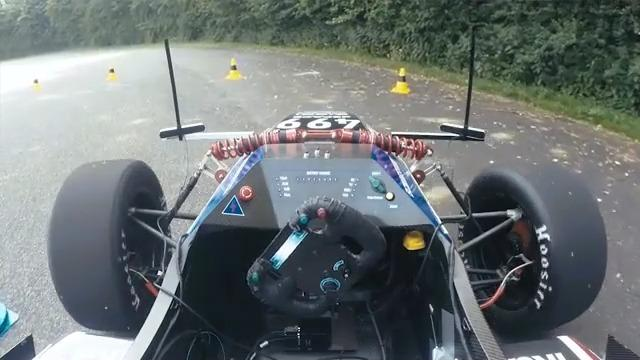blue_cone: (0, 262, 22, 339)
yellow_cone: (389, 67, 412, 96), (224, 55, 245, 84), (105, 63, 120, 84)
